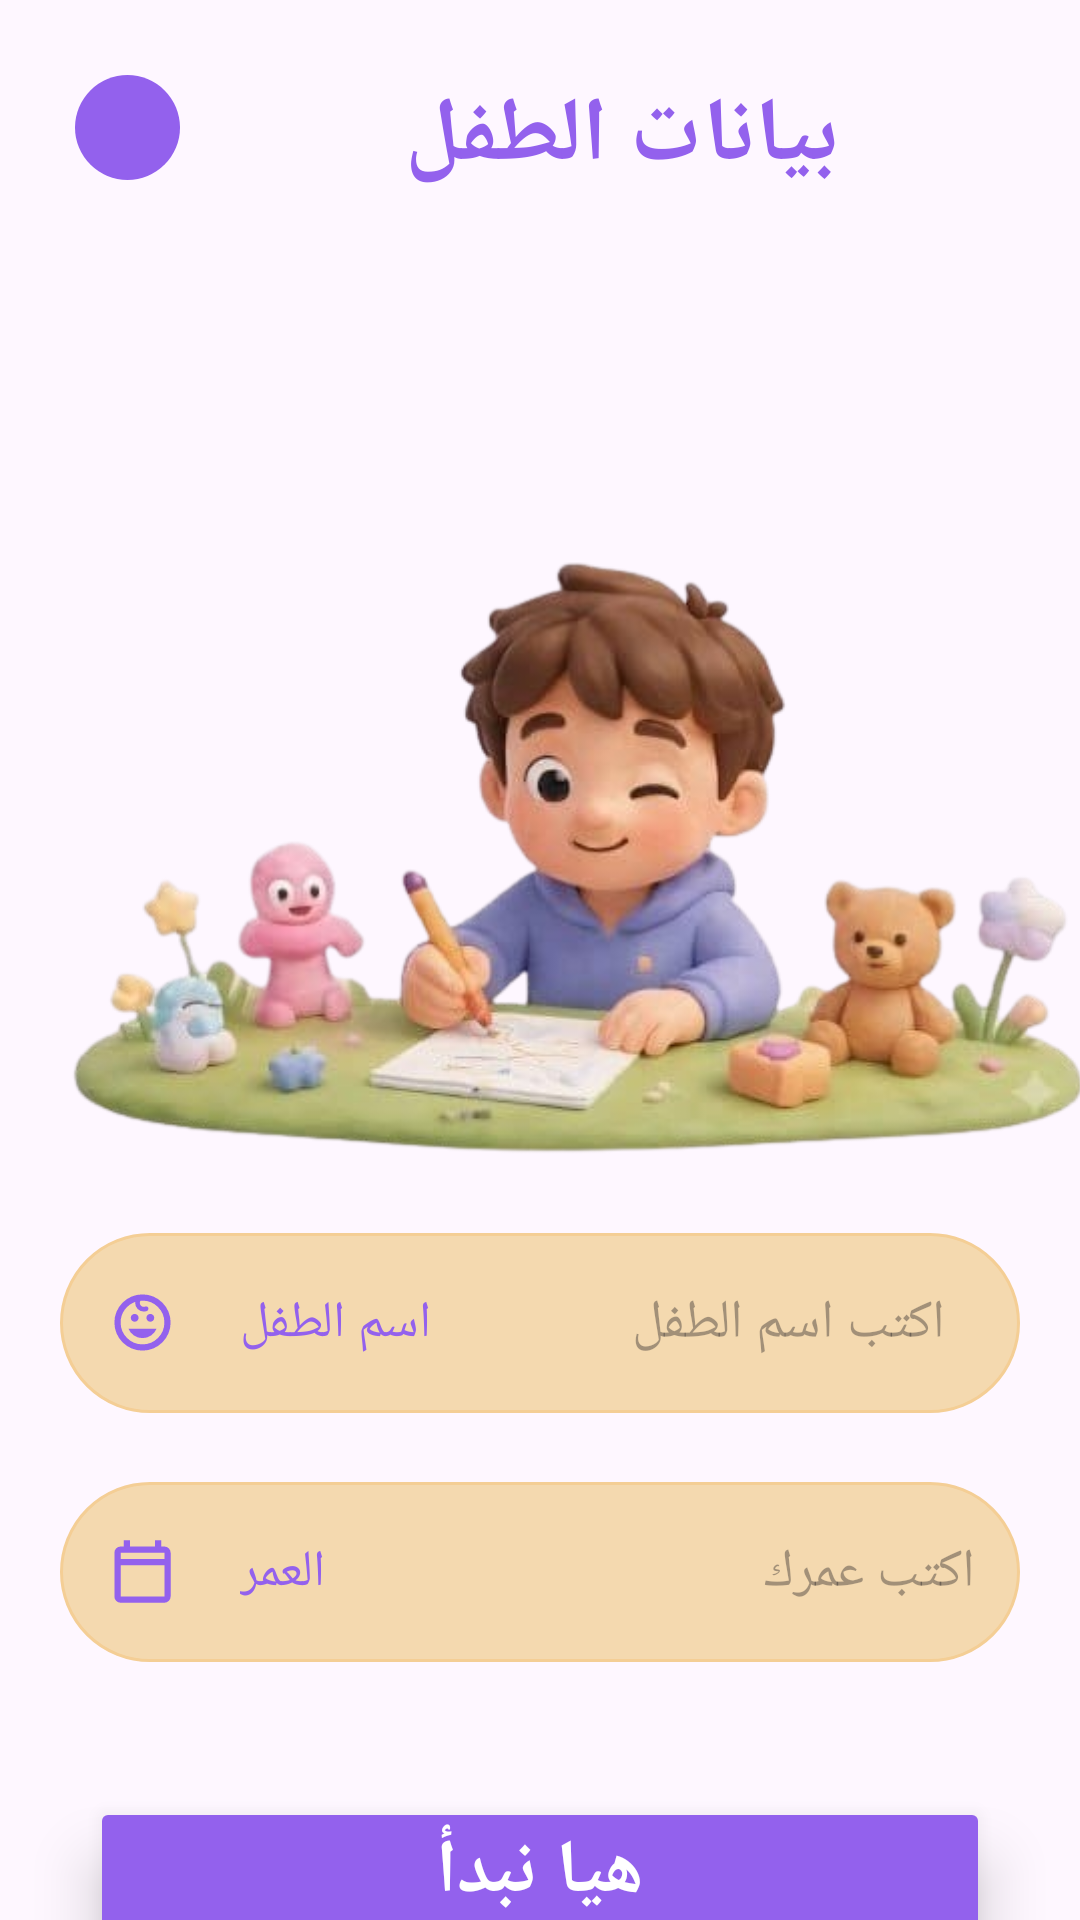

Icons on this 1080x1920 Android screen, each with the point to tap as point (x, y):
calendar today: point (142, 1571)
child care: point (142, 1322)
